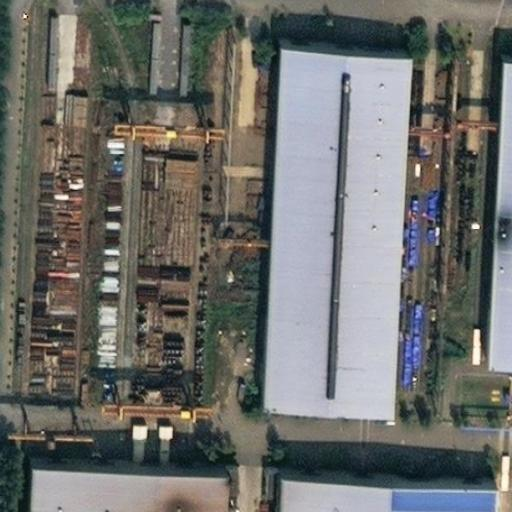building: (245, 23, 388, 391), (468, 32, 512, 341), (271, 471, 498, 512), (26, 471, 227, 511), (177, 19, 198, 96), (22, 399, 74, 428), (499, 449, 511, 488), (128, 421, 147, 440), (153, 421, 172, 438)
